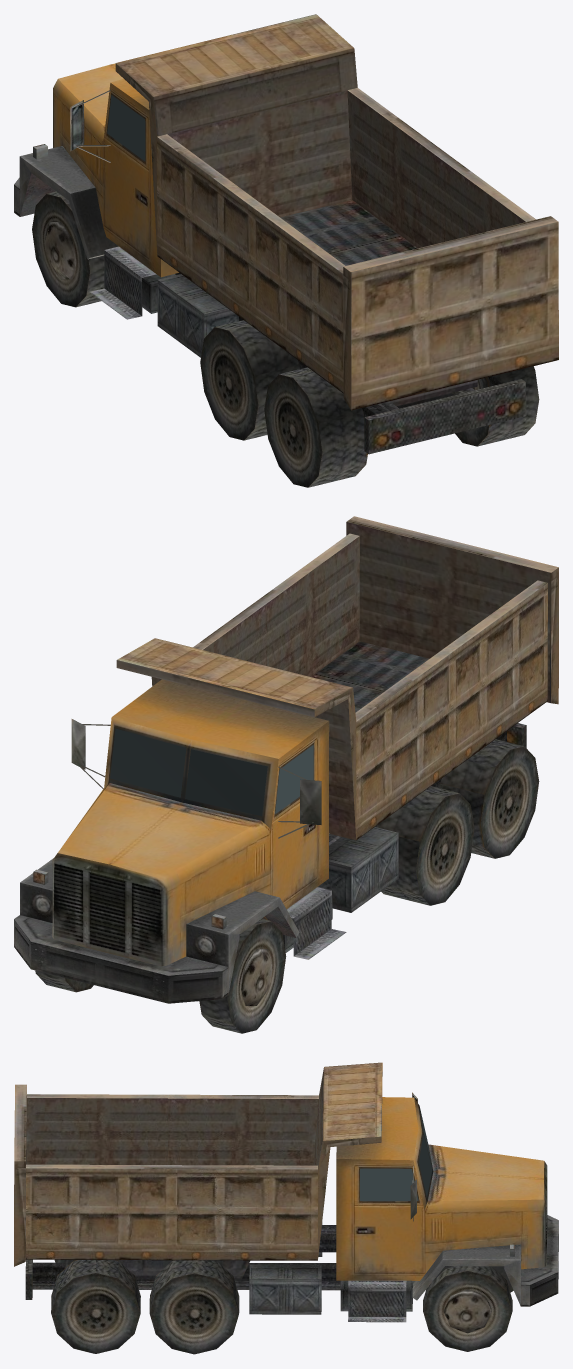
The model's file is p54_16_dump_truck_brown.glb.
The picture shows the model from 3 angles, top to bottom: view 1: azimuth 30°, elevation 25°; view 2: azimuth 150°, elevation 25°; view 3: azimuth 270°, elevation 25°; orthographic projection. The views are drawn at different scales.
Visible parts, largest first — view 1: Body, Glass; view 2: Body, Glass; view 3: Body, Glass.
Part boxes in pixels (x1,y1,x2,y2): Body: (14, 14, 558, 487); Glass: (107, 95, 145, 161); Body: (14, 516, 558, 1033); Glass: (110, 728, 313, 816); Body: (14, 1062, 558, 1354); Glass: (360, 1108, 432, 1200).
Bounding box in the file's own units: 2.84 × 3.04 × 6.95.
2 materials, 2 textured.
